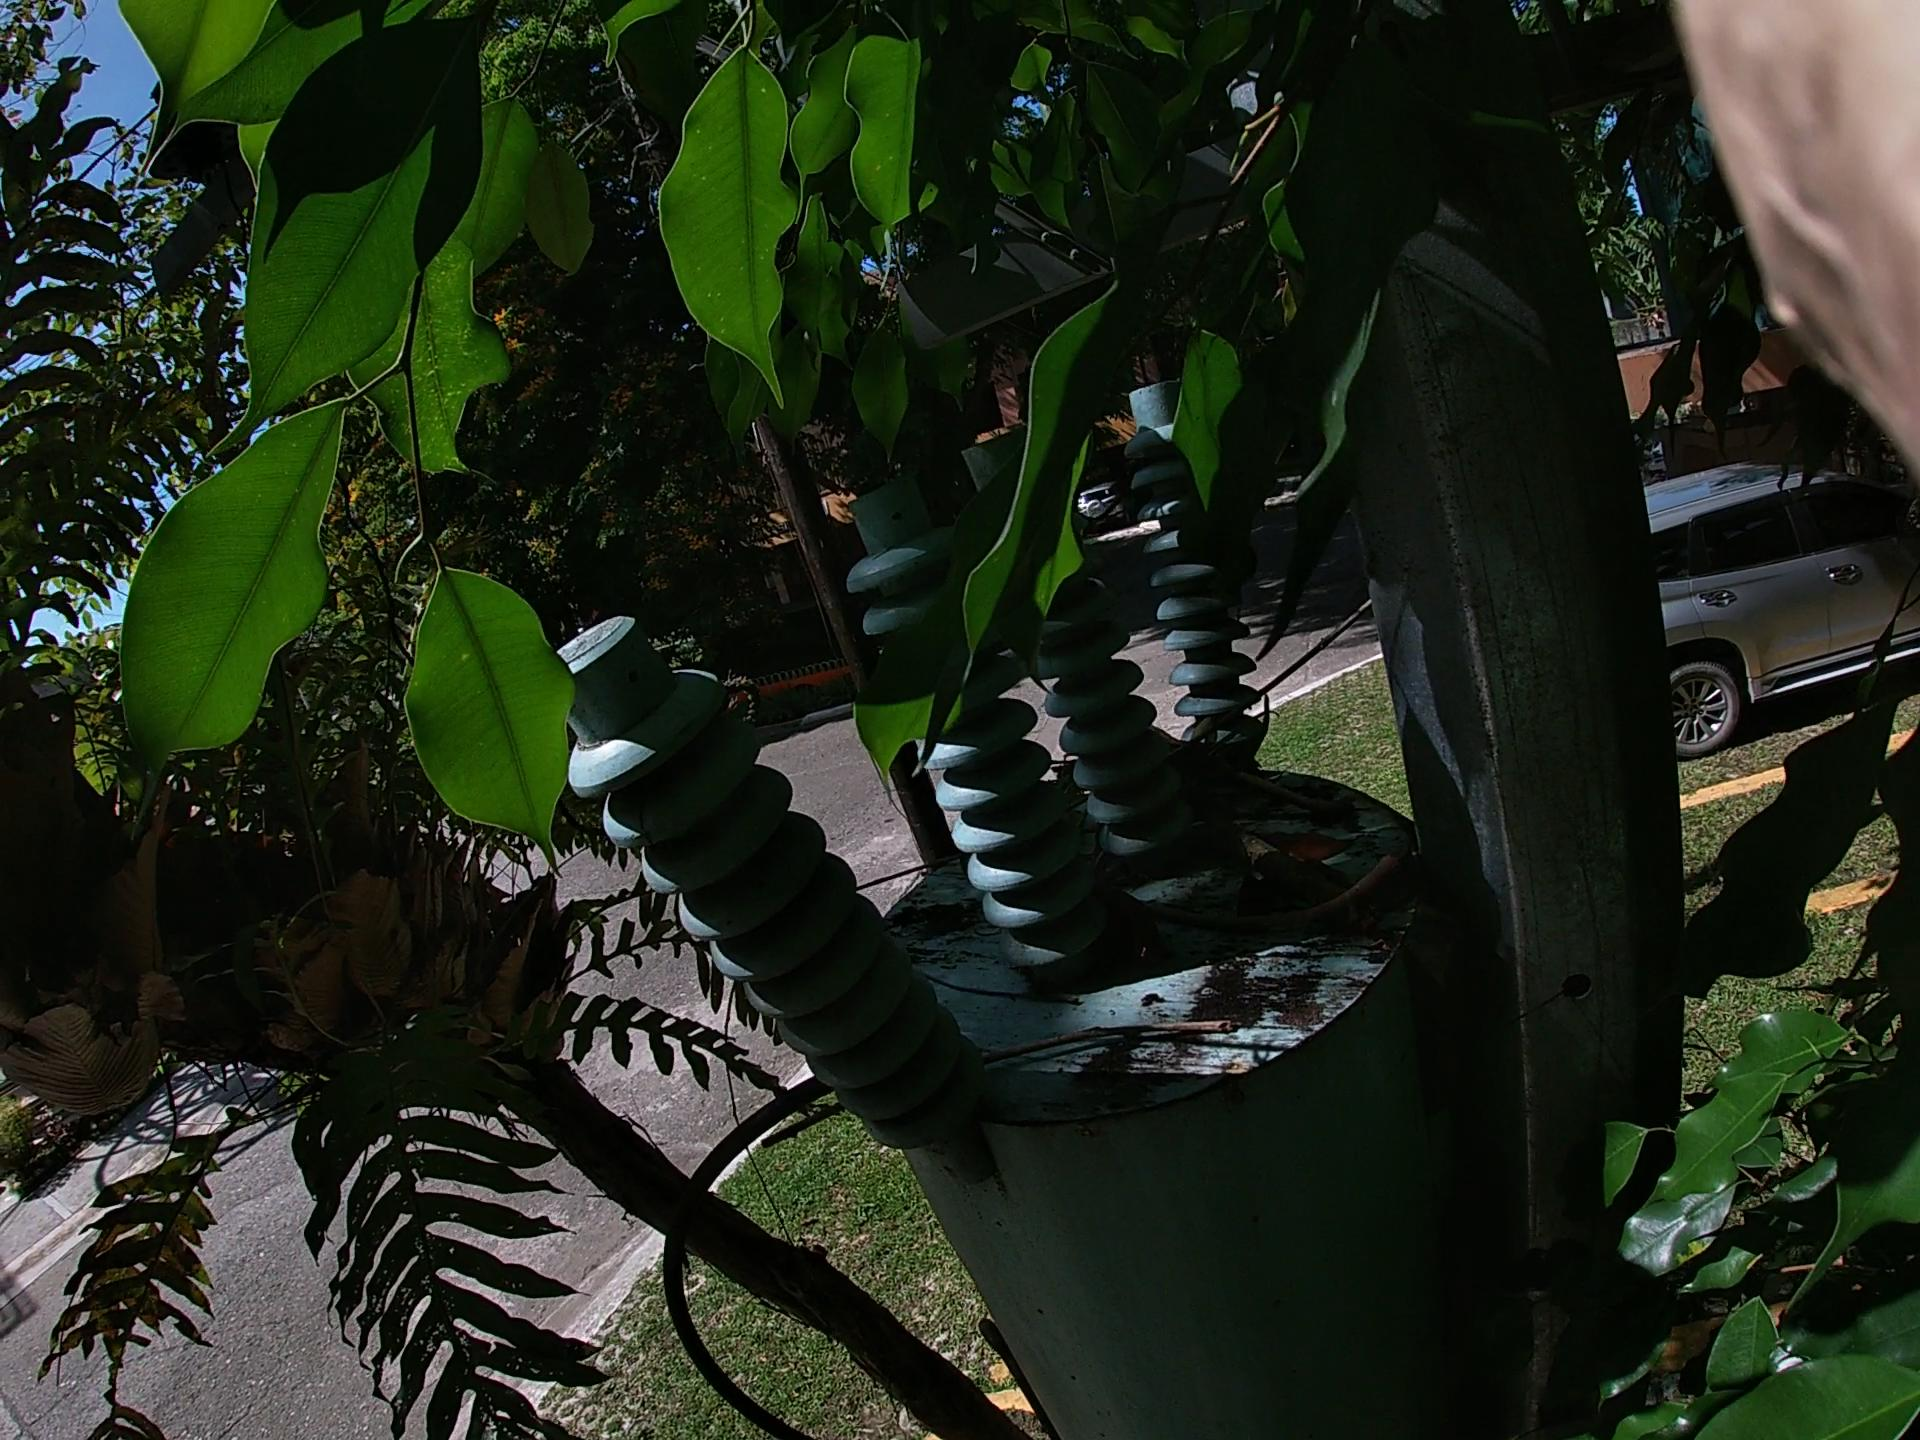leaf: (1253, 802, 1377, 915)
tree branch: (432, 554, 1349, 1333), (659, 967, 1332, 1181), (1157, 735, 1336, 989), (1064, 873, 1439, 930)
